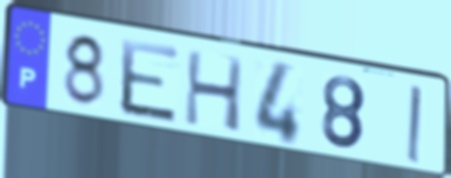4: (252, 57, 304, 148)
8: (319, 74, 368, 152), (61, 32, 107, 110)
E: (118, 35, 182, 127)
H: (182, 48, 246, 135)
I: (404, 82, 424, 167)
